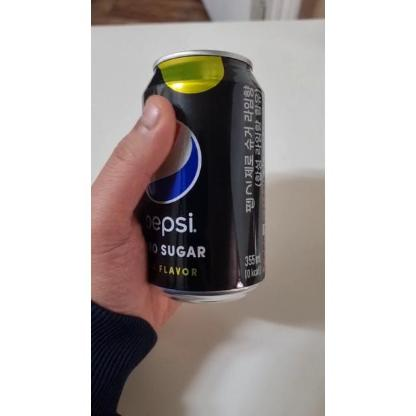Can: (141, 51, 266, 304)
